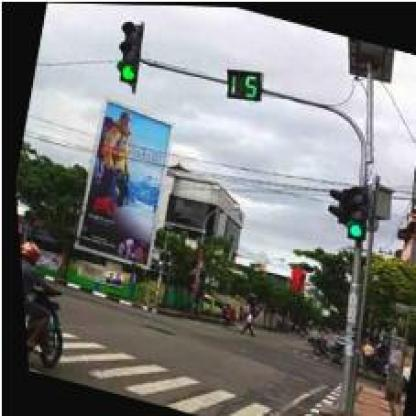green: (107, 17, 146, 86), (337, 180, 374, 238)
